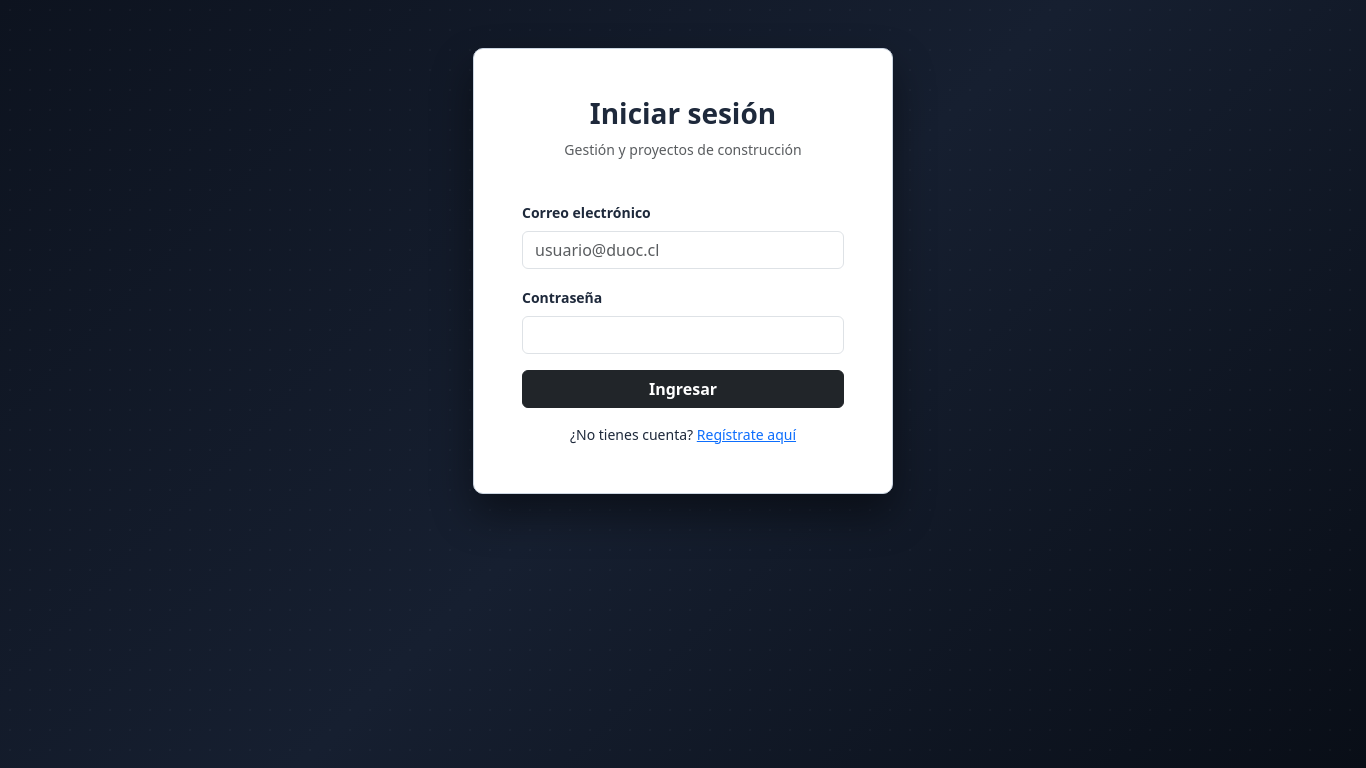
Pruebas de estado: Login › al enviar vacío muestra los errores de correo y contraseña
Step 1. Click the button "Ingresar" → (683, 389), box [522,370,844,408]
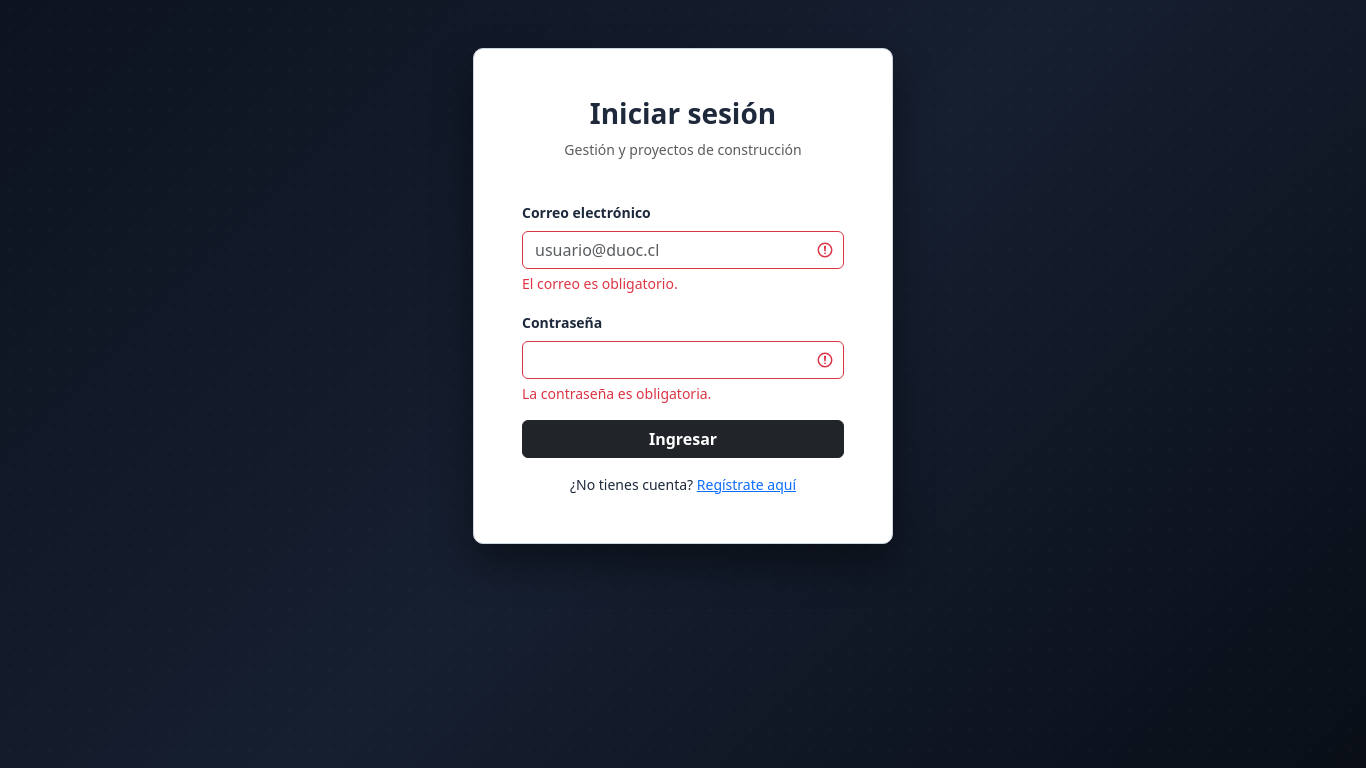
Now the message with test id "error-correo" reads "El correo es obligatorio.", box [522,274,678,293]
Now the message with test id "error-clave" reads "La contraseña es obligatoria.", box [522,384,711,403]
